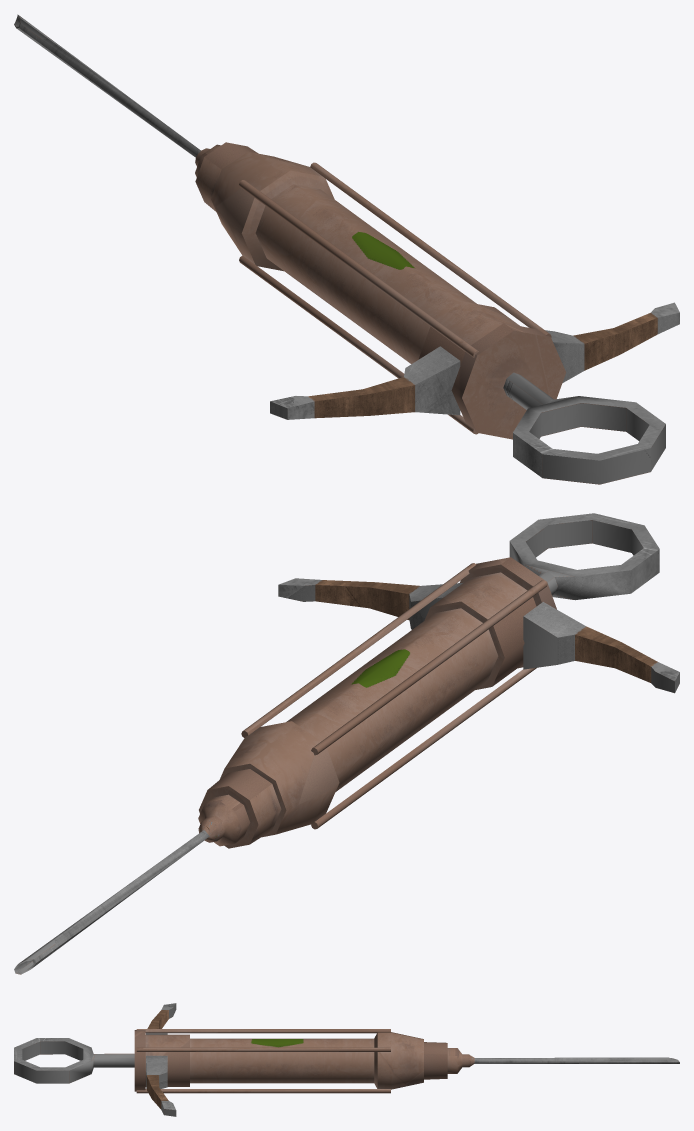
The model's file is SM_Syringe.fbx.
3 views of the same model, one above another, from view 1: azimuth 30°, elevation 25°; view 2: azimuth 150°, elevation 25°; view 3: azimuth 270°, elevation 25° (orthographic). The views are drawn at different scales.
Visible parts, largest first — view 1: Cylinder.002; view 2: Cylinder.002; view 3: Cylinder.002.
Boxes of the visible parts, x1=… form: Cylinder.002: x1=14, y1=14, x2=679, y2=484; Cylinder.002: x1=14, y1=513, x2=679, y2=974; Cylinder.002: x1=14, y1=1003, x2=679, y2=1116.
Size of the model in its own units: 26.26 by 6.77 by 68.88.
